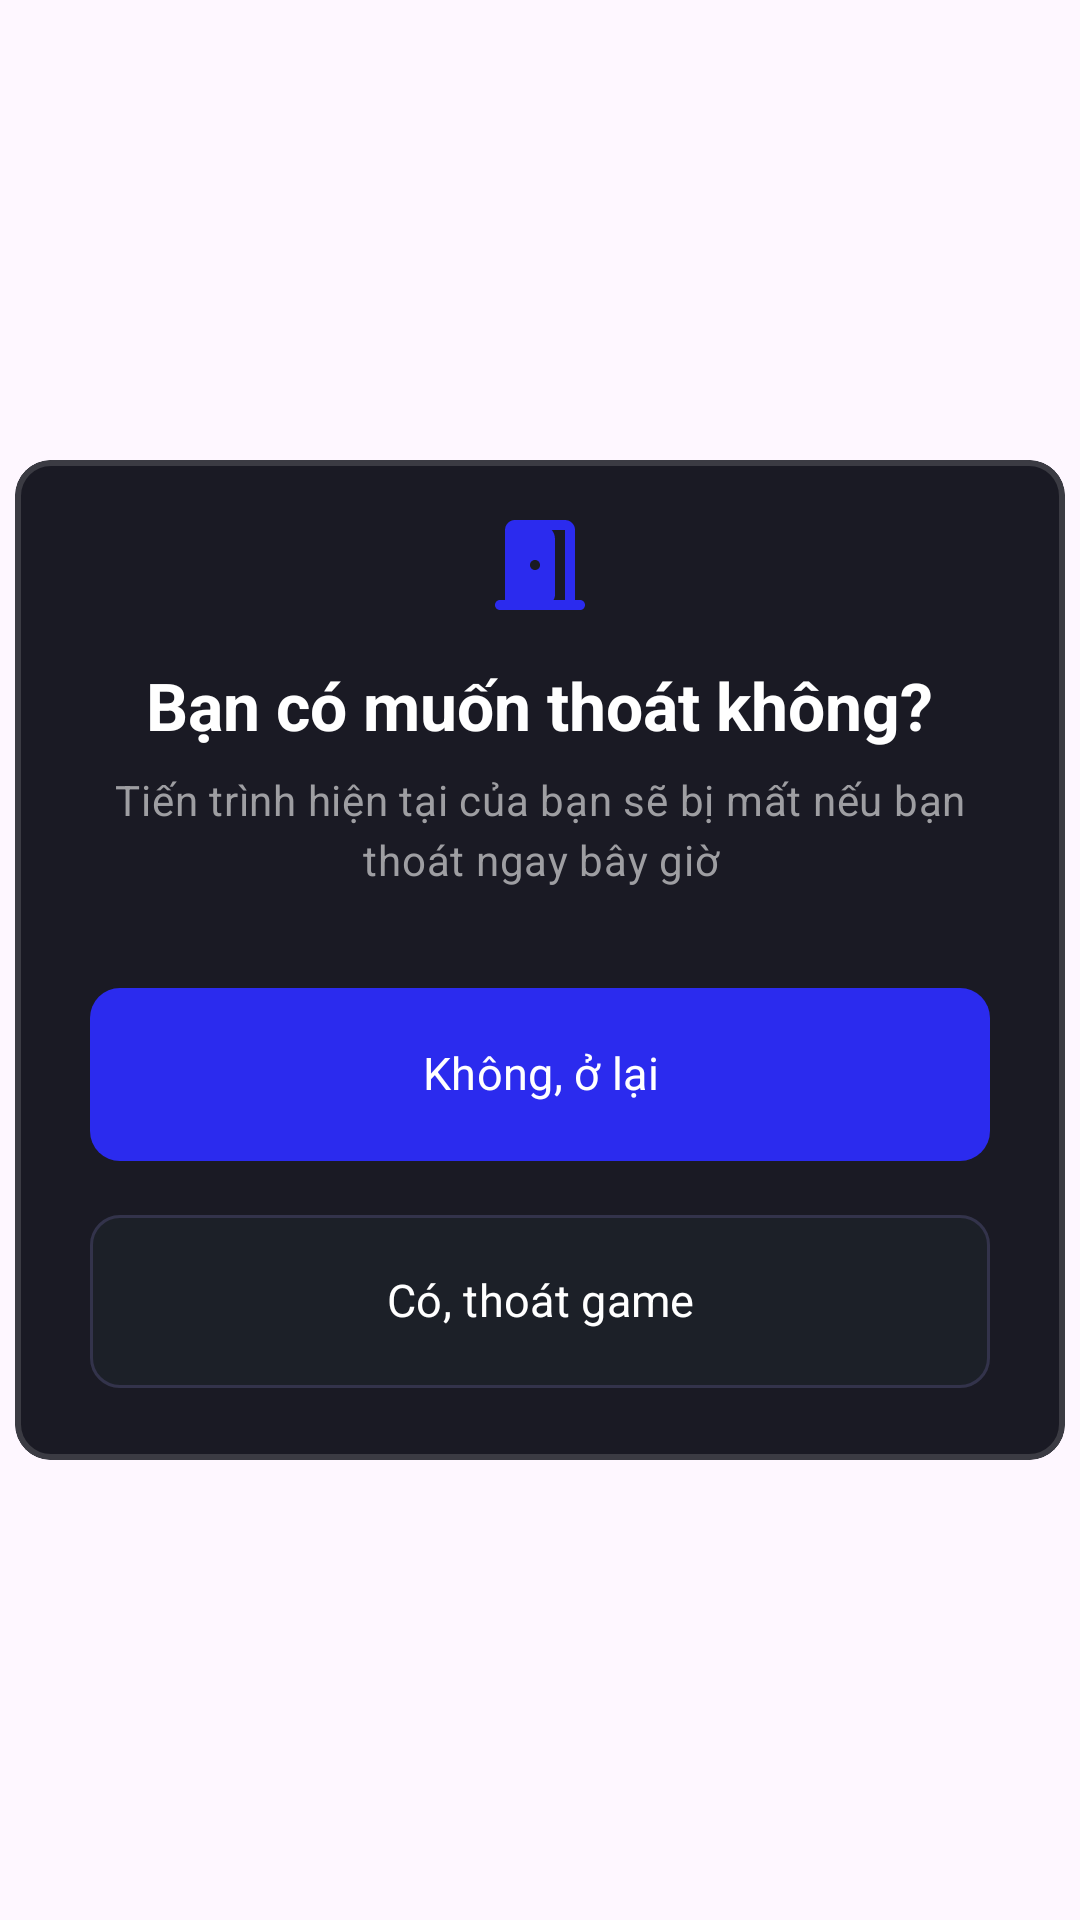

Named icons in this screenshot (1080px×1920px) and their centers, point (x, y):
door: point (540, 565)
